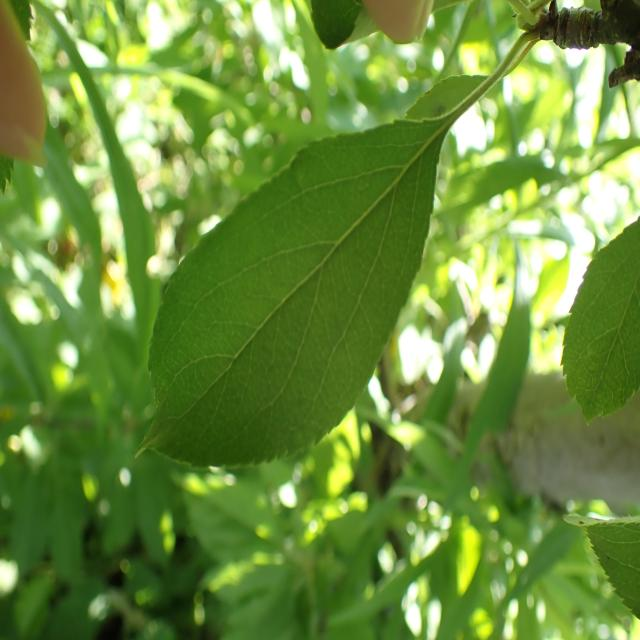healthy: (138, 106, 450, 472), (559, 214, 640, 426), (562, 511, 640, 622)
